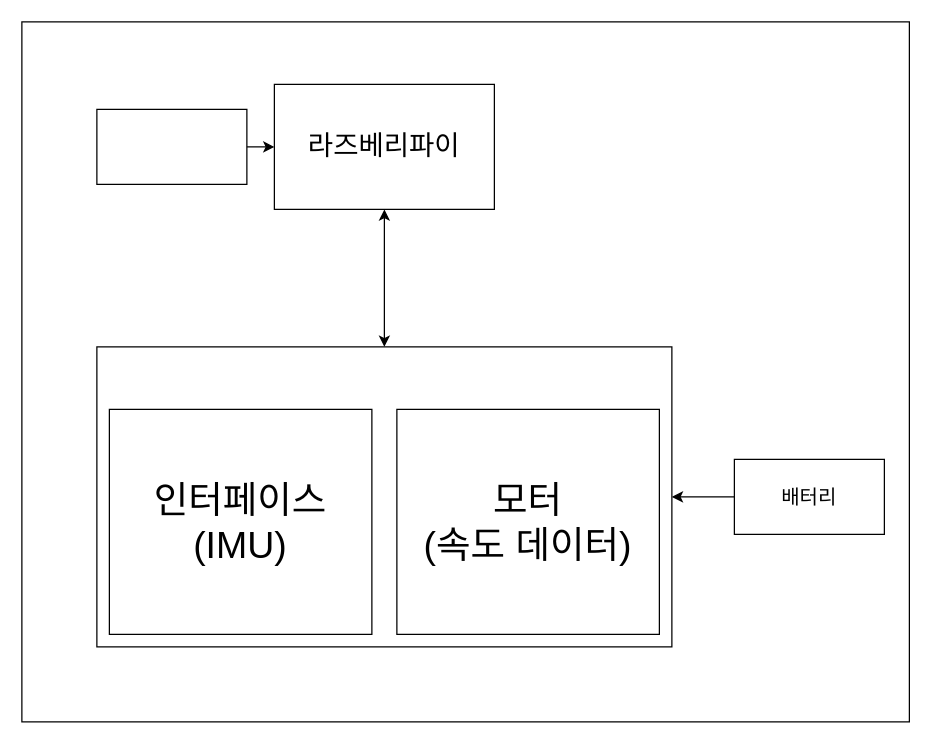
This 931x744 diagram has some shape labels left out. The shapes that lost their labels are listed below. From the top down, each one's box as (x1, y1, x2, y2) in pixels, then its label:
(96, 108, 247, 184): 1. LiDAR 2. Camera
(96, 346, 672, 647): 보드
